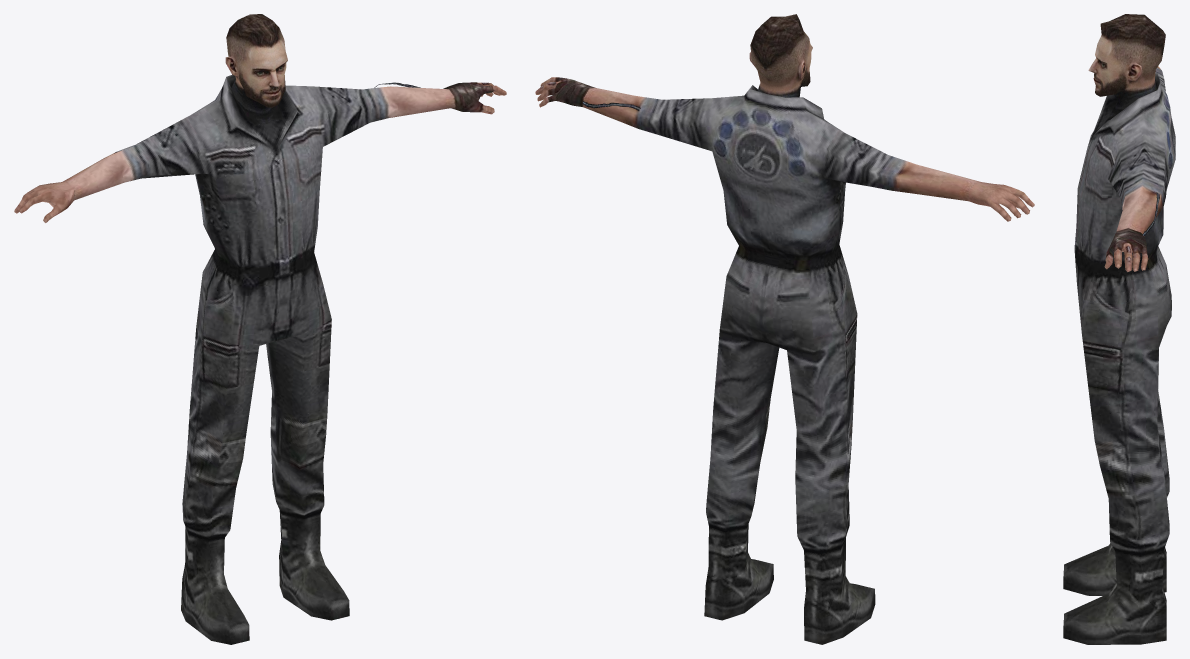
File: hero.glb
3 renders of one model, left to right at view 1: azimuth 30°, elevation 25°; view 2: azimuth 150°, elevation 25°; view 3: azimuth 270°, elevation 25°, orthographic.
Visible parts, largest first — view 1: Object_2; view 2: Object_2; view 3: Object_2.
Part boxes in pixels (x1,y1,x2,y2): Object_2: (14,14,506,644); Object_2: (535,14,1034,644); Object_2: (1063,14,1175,644).
Bounding box in the file's own units: 1.54 × 1.78 × 0.3046.
1 material, 1 textured.
